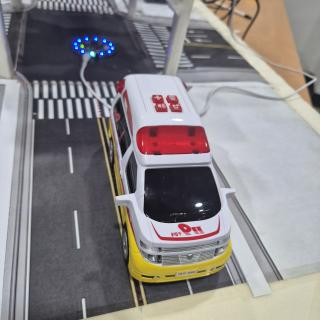Ambulance: (107, 74, 235, 282)
